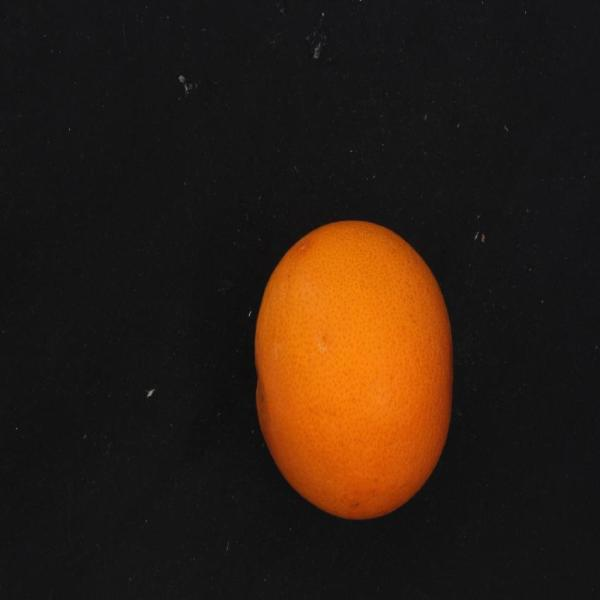Sana: (241, 210, 464, 527)
